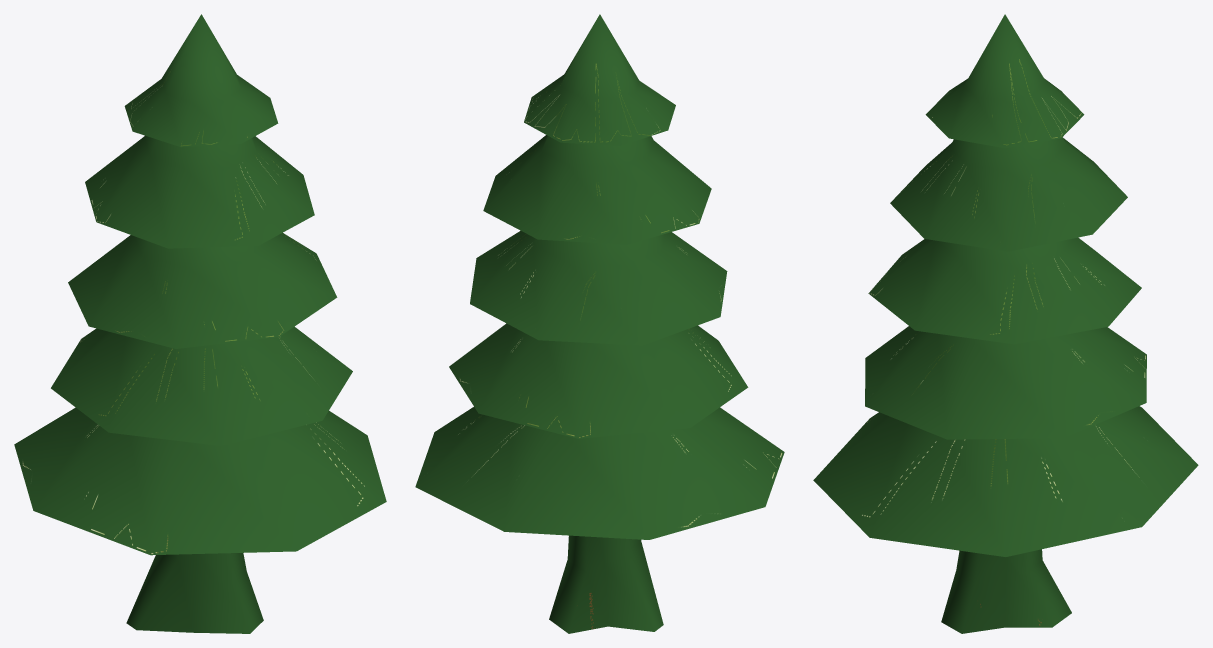
The model's file is arbol.glb.
The picture shows the model from 3 angles, left to right: view 1: azimuth 30°, elevation 25°; view 2: azimuth 150°, elevation 25°; view 3: azimuth 270°, elevation 25°; orthographic projection.
Parts seen in each view (by area): view 1: PineTree_001; view 2: PineTree_001; view 3: PineTree_001.
Boxes of the visible parts, <box> form: PineTree_001: <box>14,14,386,633</box>; PineTree_001: <box>415,14,784,633</box>; PineTree_001: <box>813,14,1198,633</box>.
Size of the model in its own units: 1.75 by 3 by 1.75.
1 material, 1 textured.
